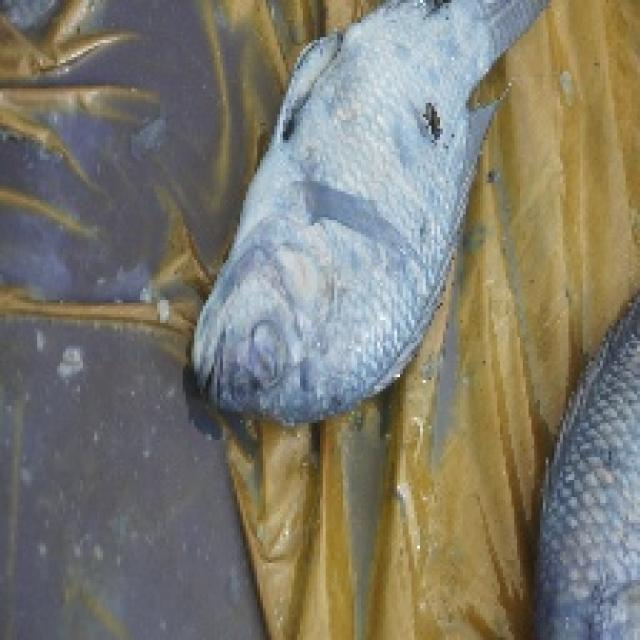Non-Fresh: (182, 0, 506, 466)
